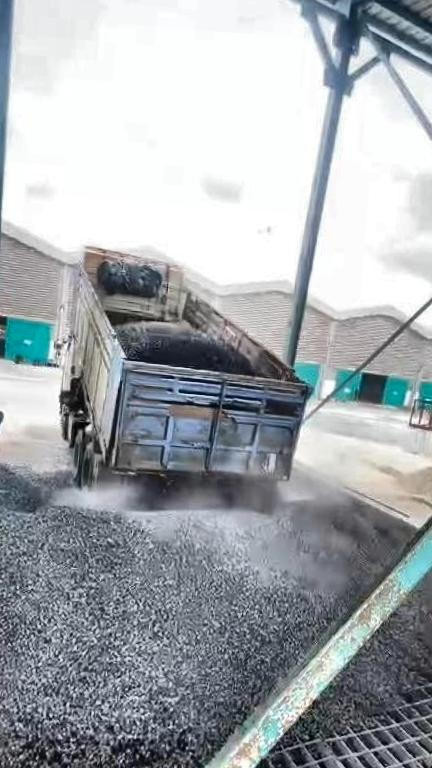gravel: (0, 447, 409, 768), (296, 566, 432, 737), (114, 323, 253, 374)
sand: (347, 462, 432, 518)
